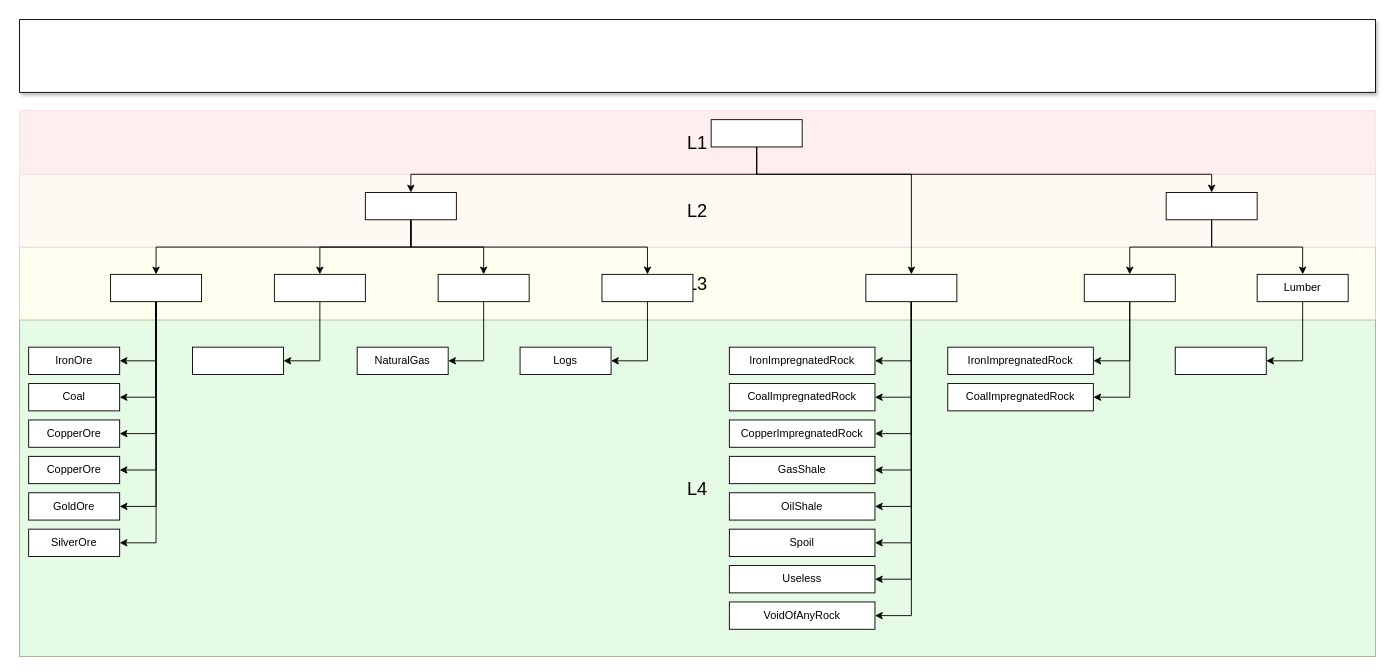
Some shapes in this 1397 by 672 pixel diagram are drawn without their labels. Each missing label, with the centre of its shape:
CrudeOil: [237,360]
Gas: [483,287]
Ingots: [1129,287]
Material: [756,133]
Materials The hierarchy of materials: [698,57]
Oil: [319,287]
Ore: [156,287]
Planks: [1220,360]
RawMaterial: [410,206]
RefinedMaterial: [1211,206]
Rock: [911,287]
Timber: [647,287]
